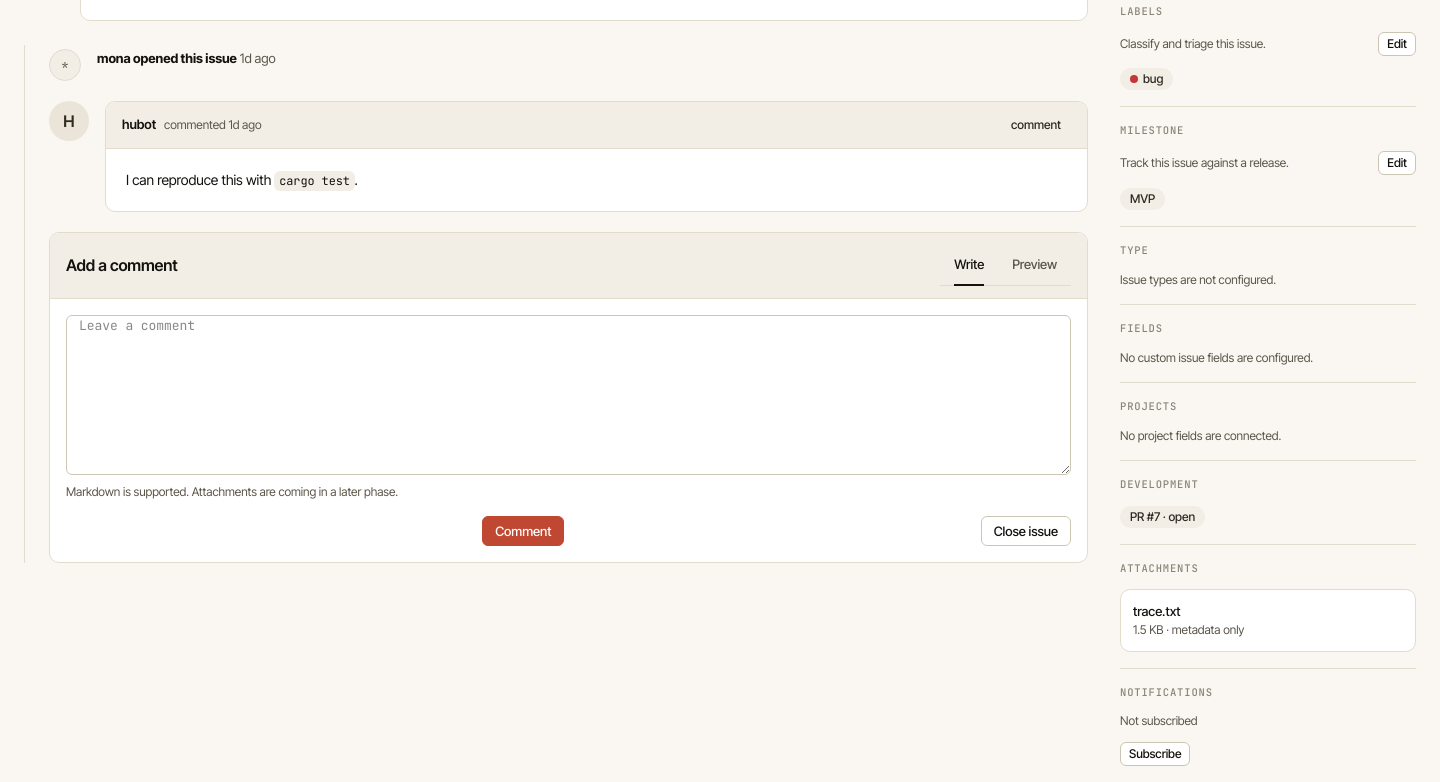
Test: RepositoryIssueDetailPage › previews markdown, posts comments, and toggles concrete issue actions
The image size is (1440, 782).
(page scrolled)
In the text box named "Comment body": coordinates (568, 395) [66,315,1071,475], type "New **guardrail** comment"
Click the tab "Preview": coordinates (1035, 265) [998,245,1071,285]
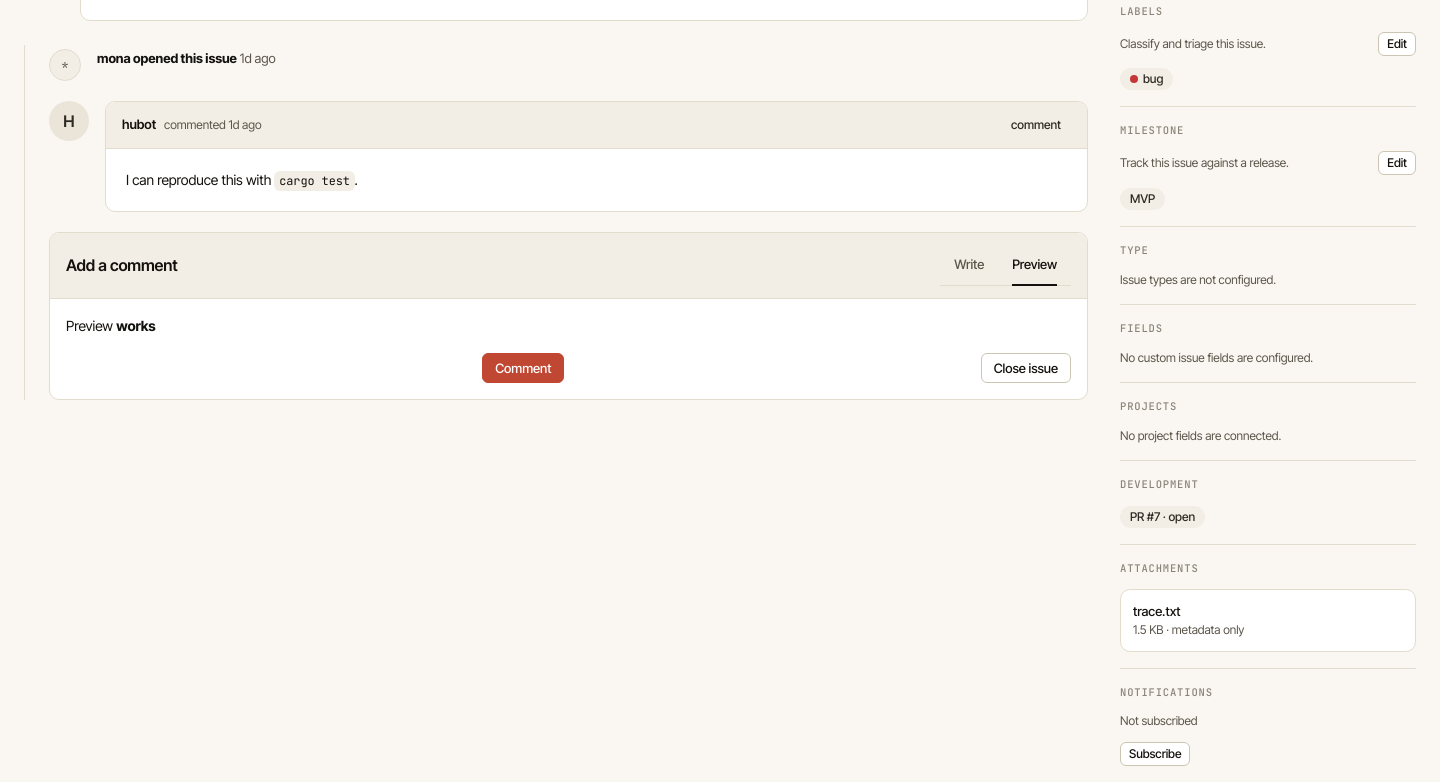
Expected: the text "works" is shown, [116,317,156,334]
Click the tab "Write": coordinates (969, 265) [940,245,998,285]
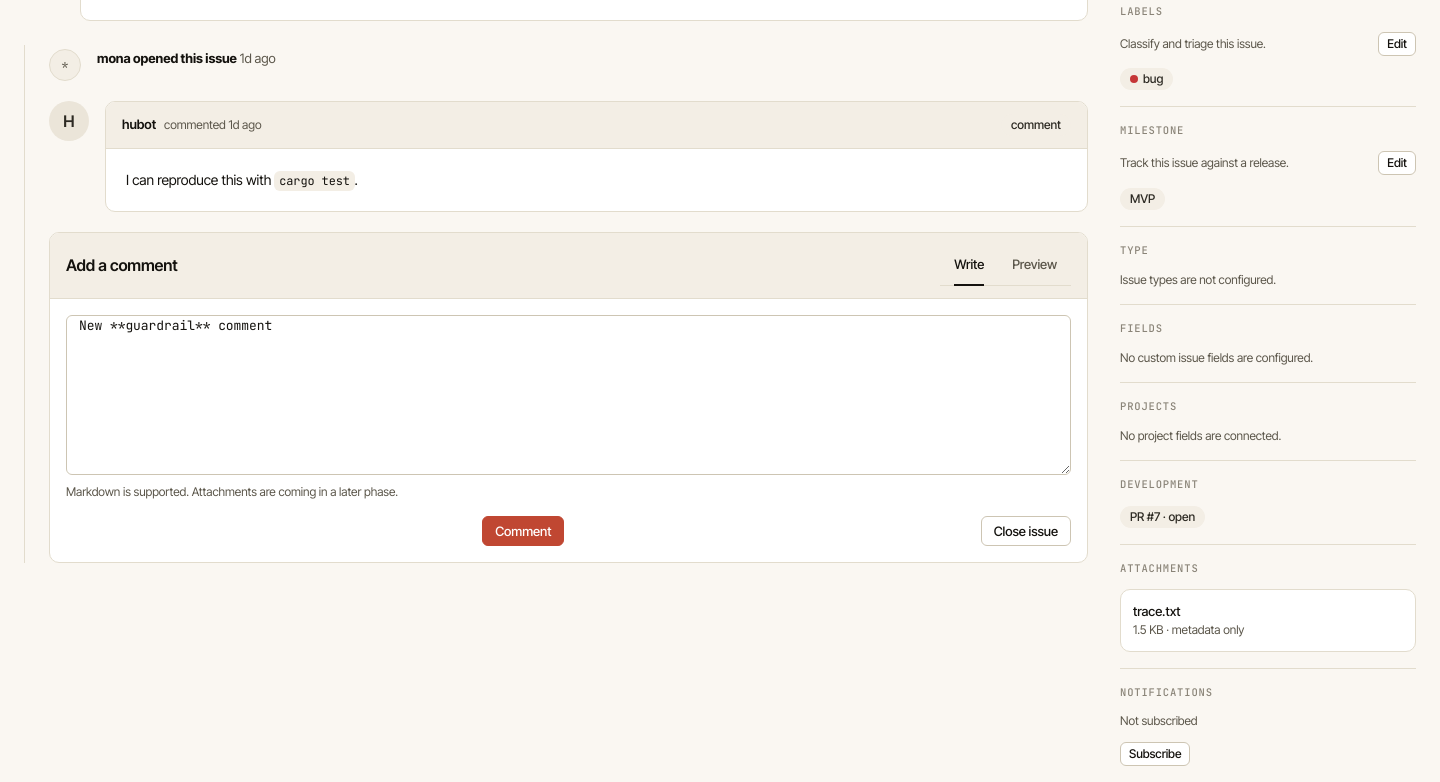
Click the button "Comment": coordinates (523, 531) [482,516,564,546]
(page scrolled)
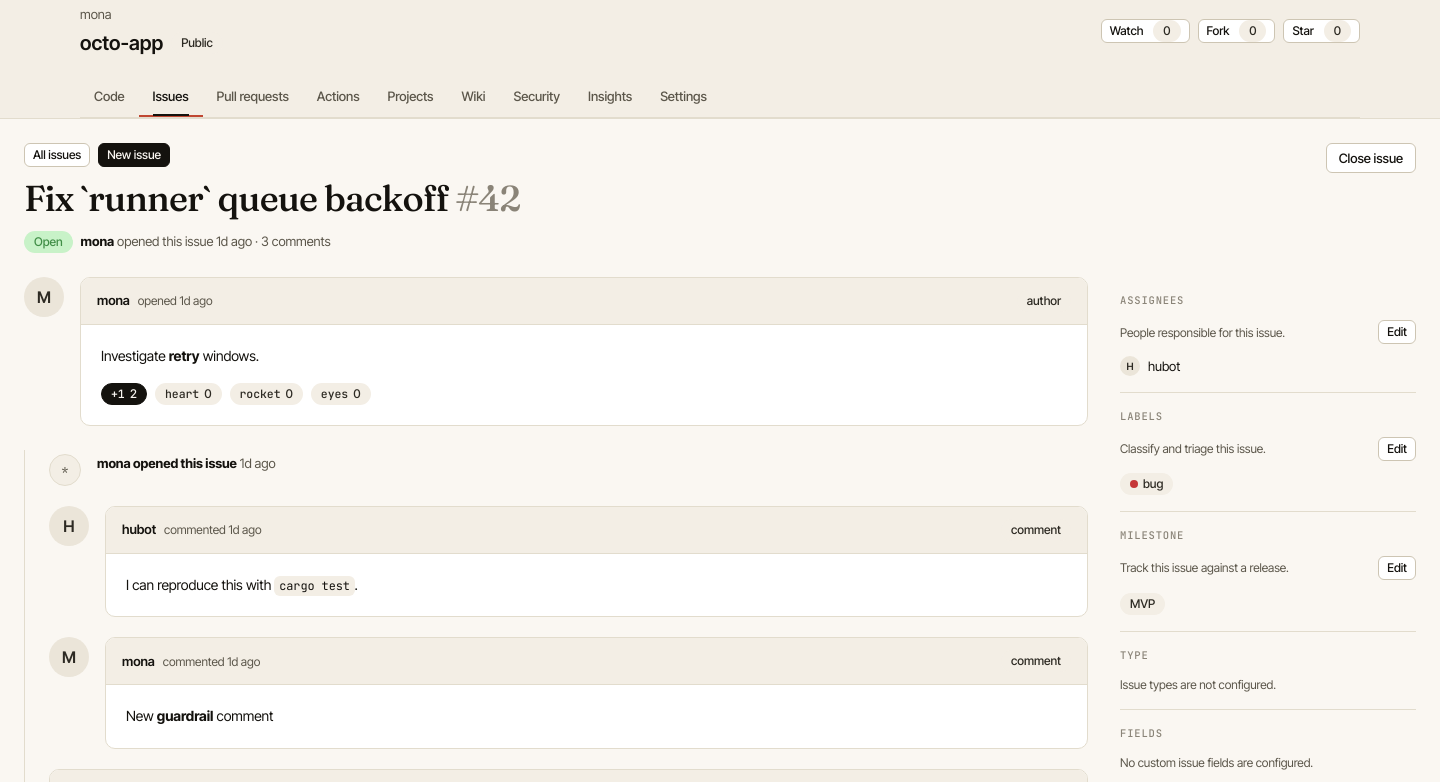
Expected: the text "guardrail" is shown, [157,707,213,724]
Click the button named "Thumbs up 2": coordinates (124, 394) [101,383,147,405]
(page scrolled)
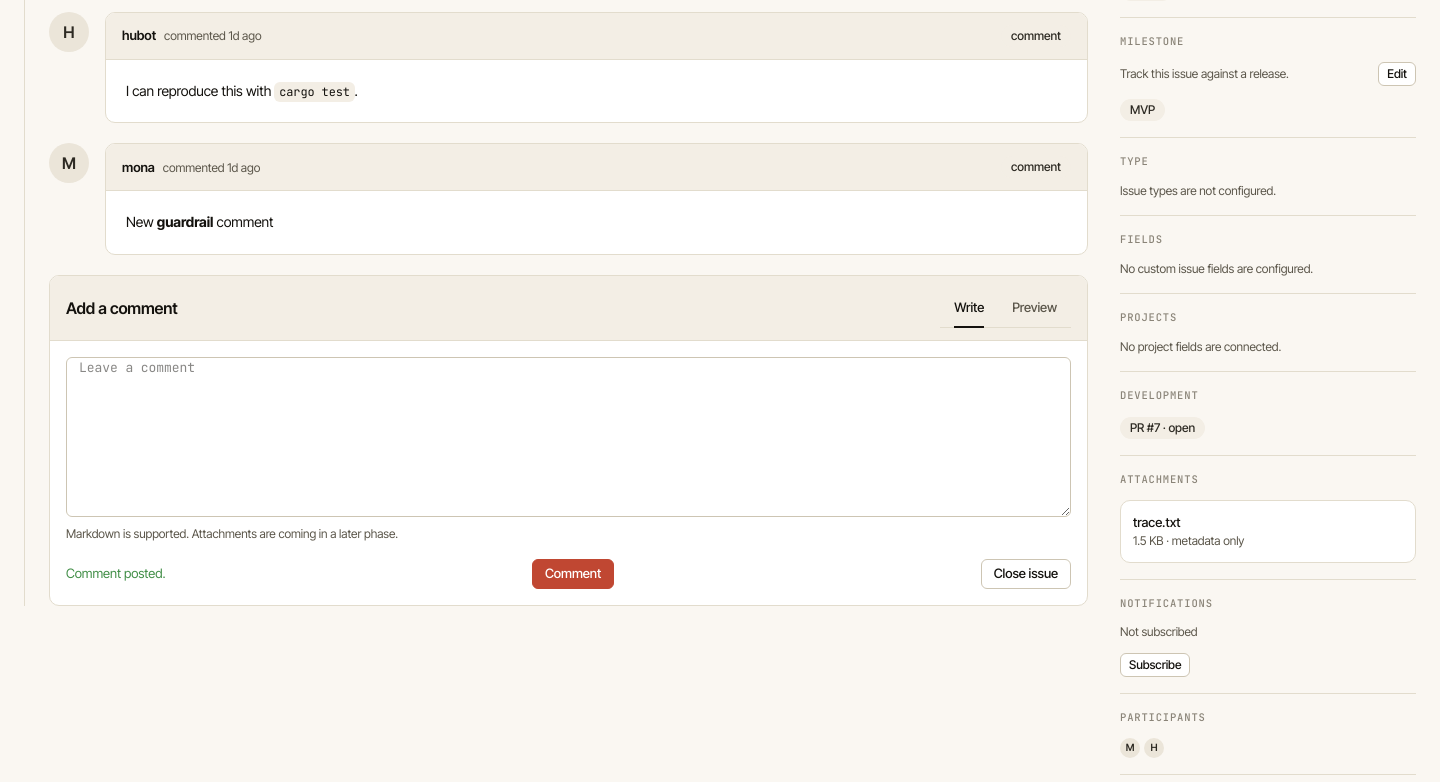
Click the button "Subscribe": coordinates (1155, 665) [1120,653,1190,677]
(page scrolled)
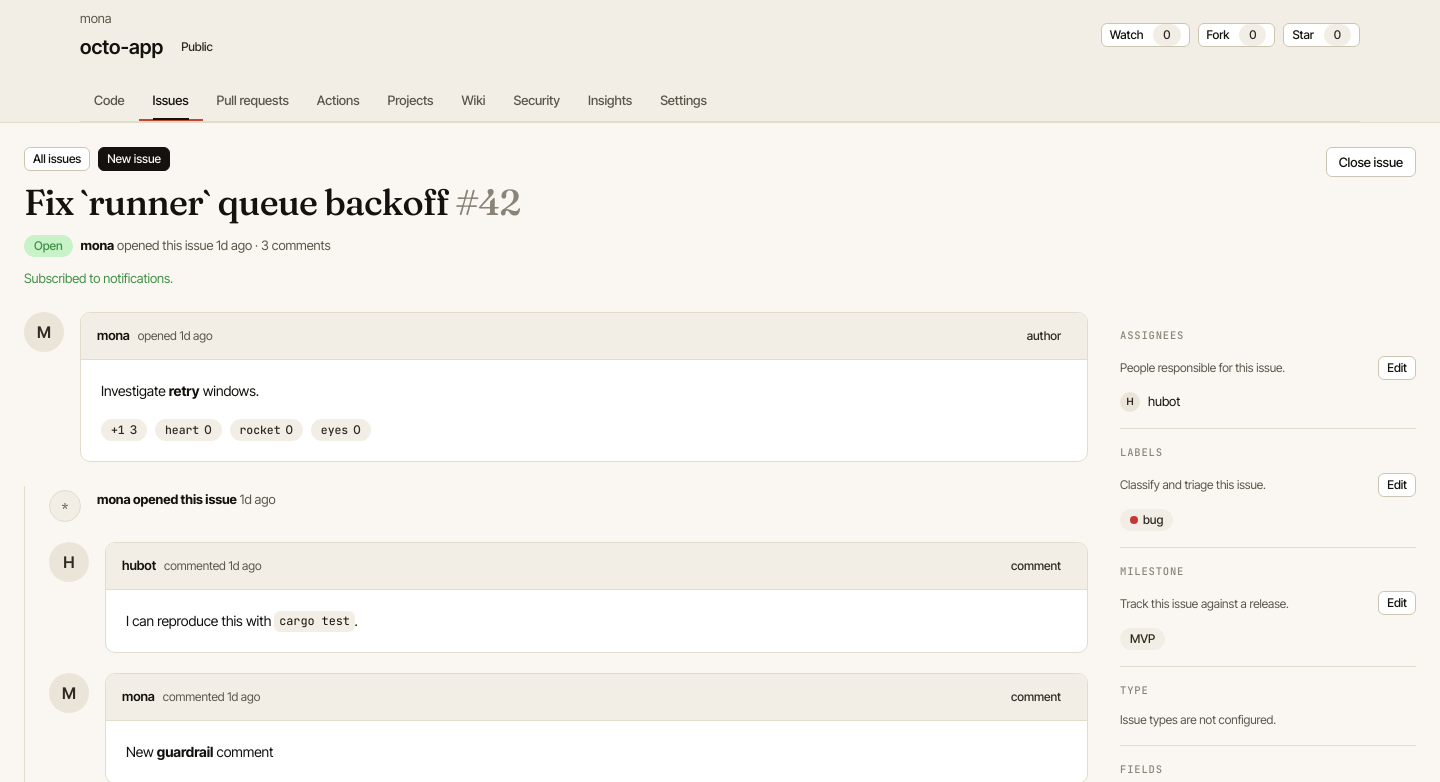
Expected: the text "Subscribed to notifications." is shown, [24,270,173,286]
Click the button "Close issue": coordinates (1371, 162) [1326,147,1416,177]
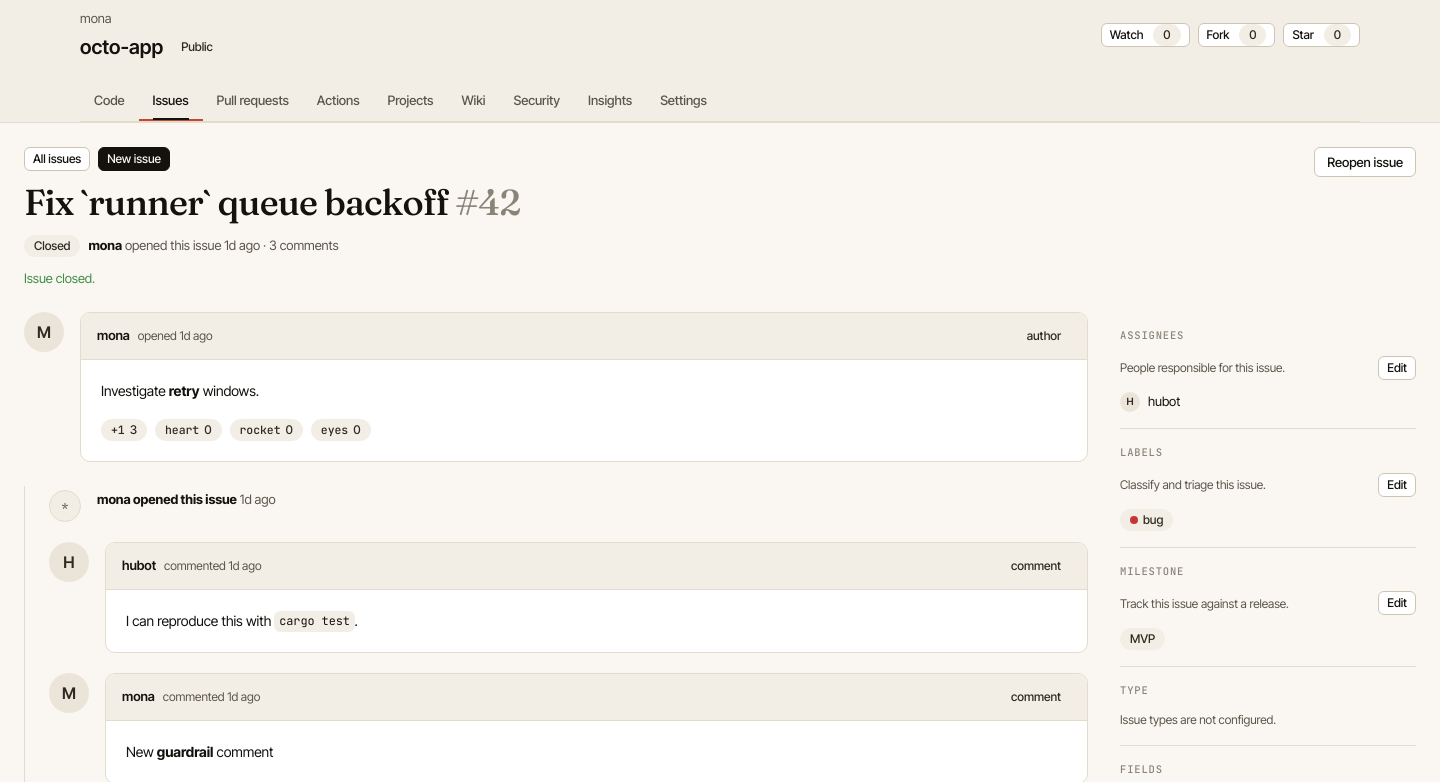
Expected: the text "Issue closed." is shown, [24,270,95,286]
Expected: the text "Closed" is shown, [24,235,80,257]
